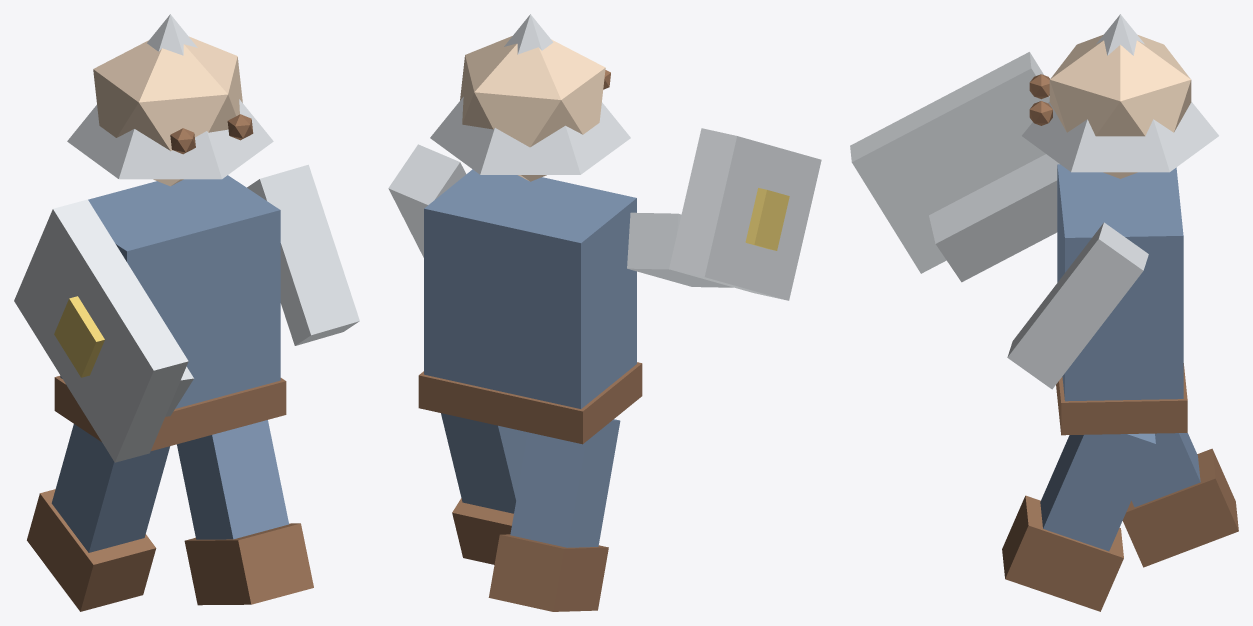
The model's file is npcpose_guard_walk_02.glb.
3 renders of one model, left to right at view 1: azimuth 30°, elevation 25°; view 2: azimuth 150°, elevation 25°; view 3: azimuth 270°, elevation 25°, orthographic. The views are drawn at different scales.
Parts seen in each view (by area): view 1: npcpose; view 2: npcpose; view 3: npcpose.
Part boxes in pixels (x1,y1,x2,y2): npcpose: (14,14,359,611); npcpose: (388,14,821,611); npcpose: (850,14,1238,611).
Size of the model in its own units: 0.8679 by 1.56 by 0.9826.
